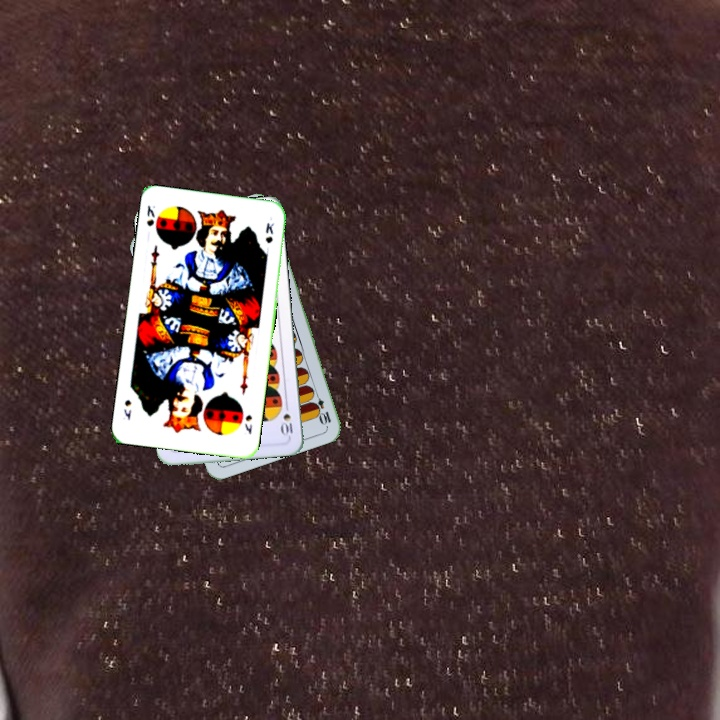E10: (310, 387, 334, 427)
S10: (278, 399, 295, 439)
SK: (143, 201, 158, 229), (241, 411, 255, 437)
